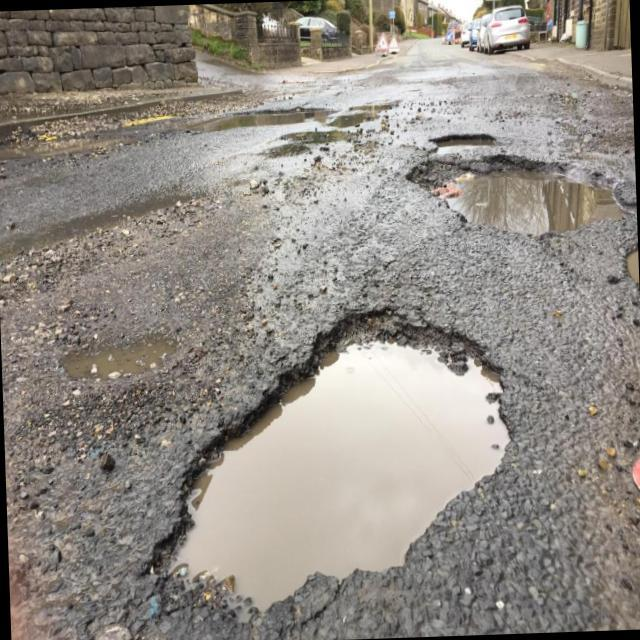Pothole: (146, 292, 523, 618), (416, 147, 631, 258), (48, 306, 186, 388), (192, 104, 330, 132), (420, 120, 502, 162), (334, 110, 373, 134)
